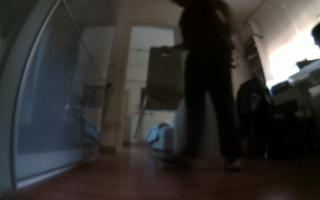person: (156, 1, 247, 177)
